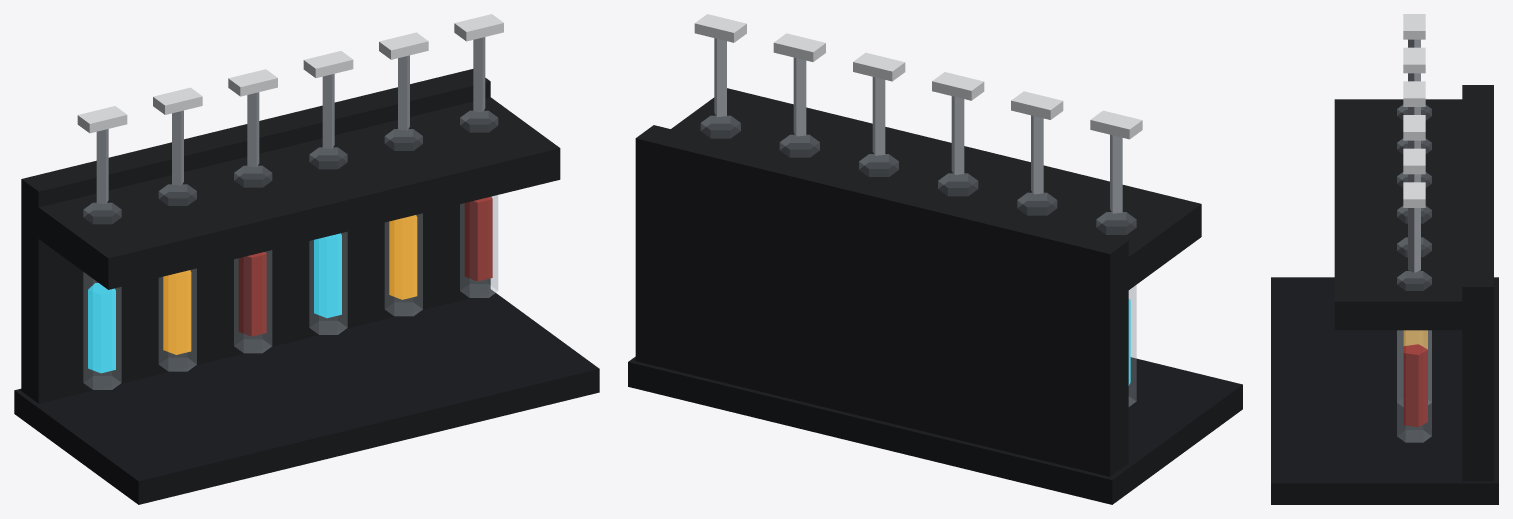
Rendered from medtool_syringe_rack.glb.
3 views of the same model, side by side, from view 1: azimuth 30°, elevation 25°; view 2: azimuth 150°, elevation 25°; view 3: azimuth 270°, elevation 25° (orthographic). The views are drawn at different scales.
Parts seen in each view (by area): view 1: medtool_syringe_rack; view 2: medtool_syringe_rack; view 3: medtool_syringe_rack.
Boxes of the visible parts, x1,y1,x2,y2 form: medtool_syringe_rack: (14, 14, 599, 504); medtool_syringe_rack: (628, 14, 1242, 504); medtool_syringe_rack: (1271, 14, 1498, 504).
Size of the model in its own units: 0.306 by 0.2045 by 0.143.
